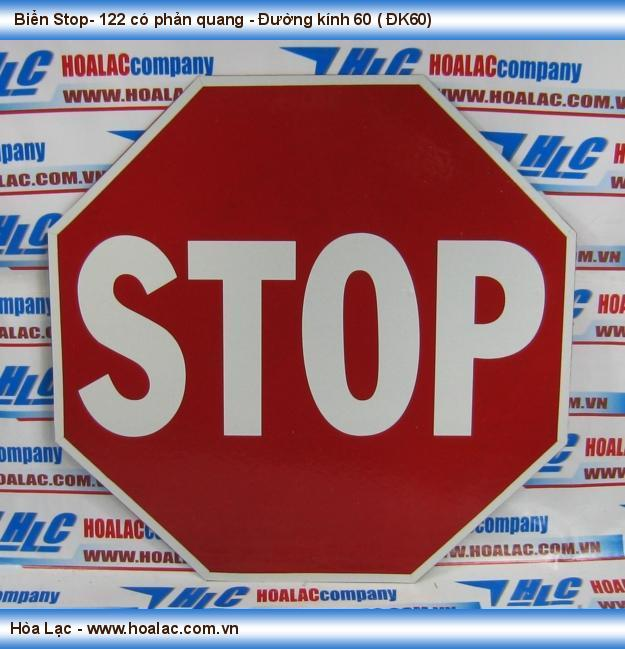Stop: (39, 71, 579, 584)
